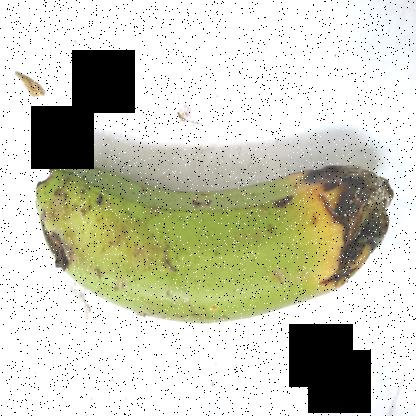rotten: (263, 149, 407, 328), (38, 204, 84, 286)
unripe: (32, 152, 294, 355)
